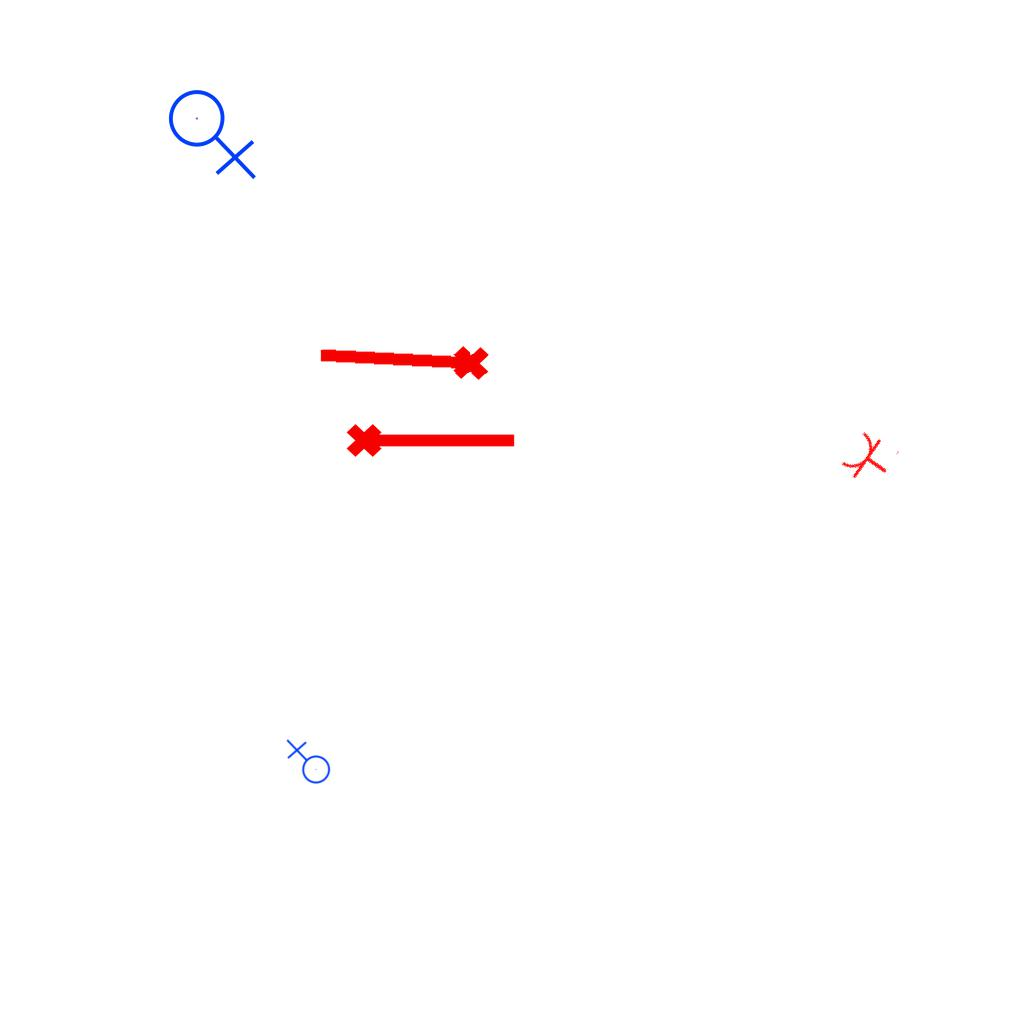ASR_Ansaugoeffnung: (313, 334, 493, 390), (344, 415, 520, 461)
Elektroanschluss_allgemein_230V_Geraeteanschlussdose_230V: (167, 81, 261, 180), (284, 739, 331, 788)
Schukosteckdose_einfach: (837, 426, 902, 492)
